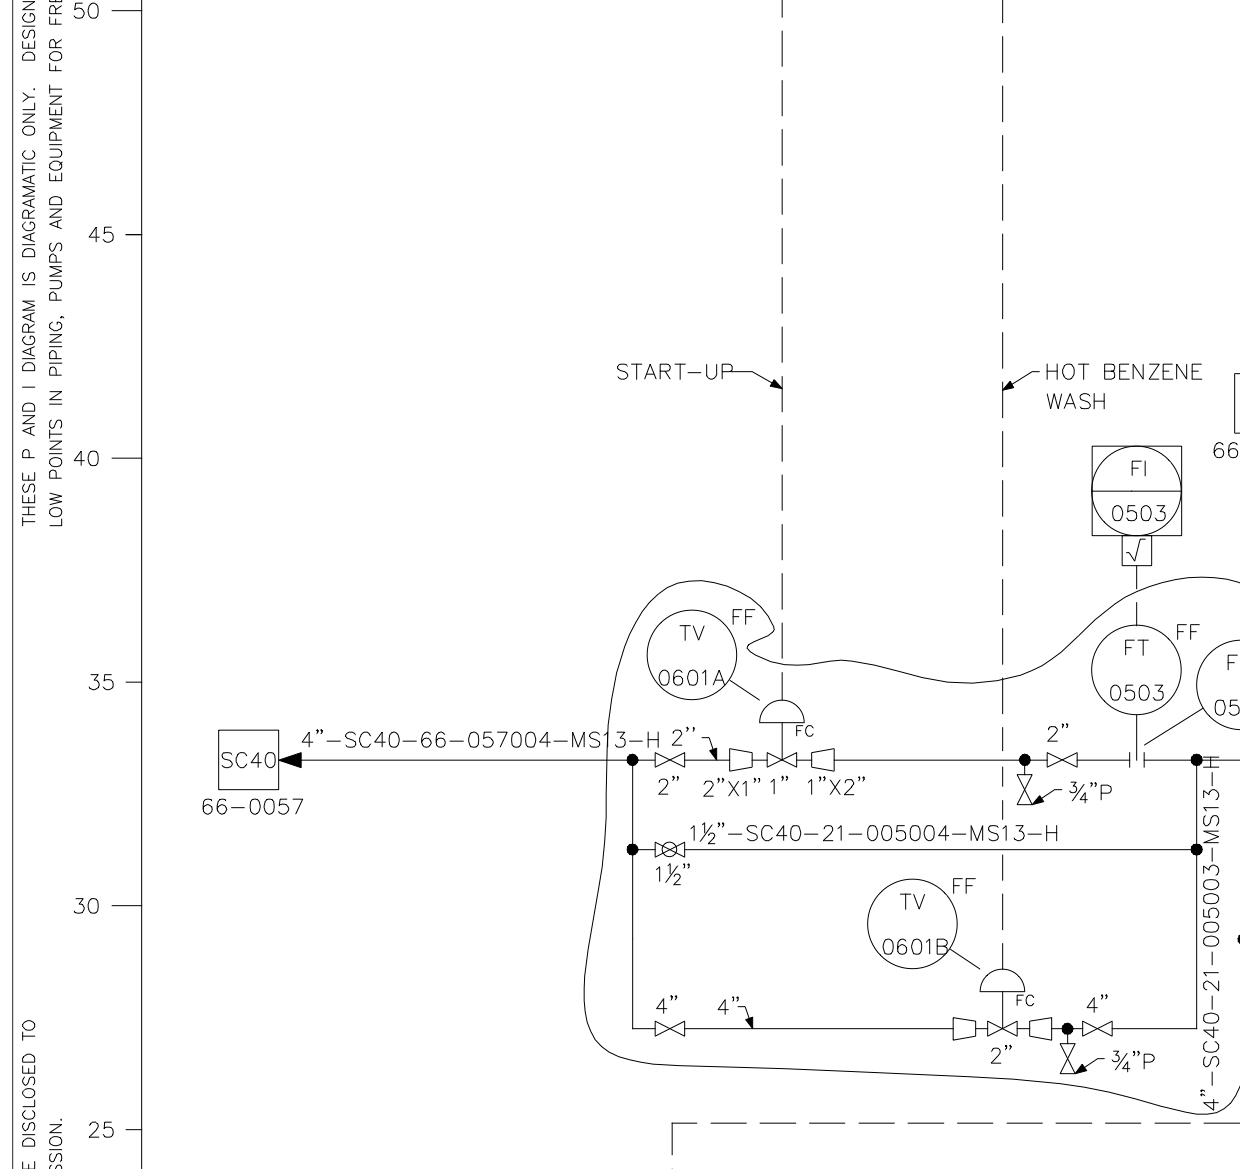Ball Valve: (647, 838, 697, 860)
Line Number: (686, 819, 1066, 845), (1197, 751, 1224, 1117), (301, 726, 699, 749)
